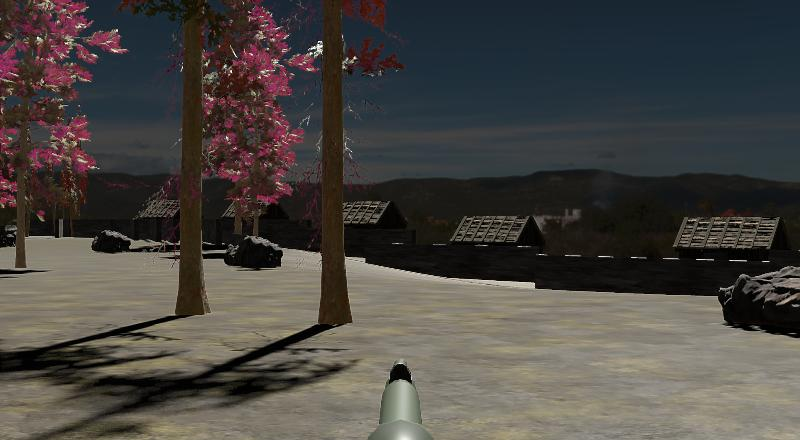House: (670, 214, 793, 271), (447, 214, 546, 251)
Tank: (0, 221, 24, 249)
